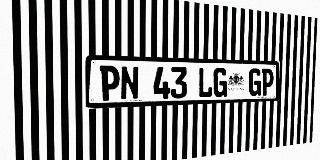3: (171, 67, 187, 99)
4: (153, 66, 170, 99)
G: (213, 68, 227, 97), (248, 68, 262, 96)
L: (198, 67, 213, 98)
N: (120, 66, 139, 100)
P: (100, 65, 120, 101), (261, 69, 274, 96)
